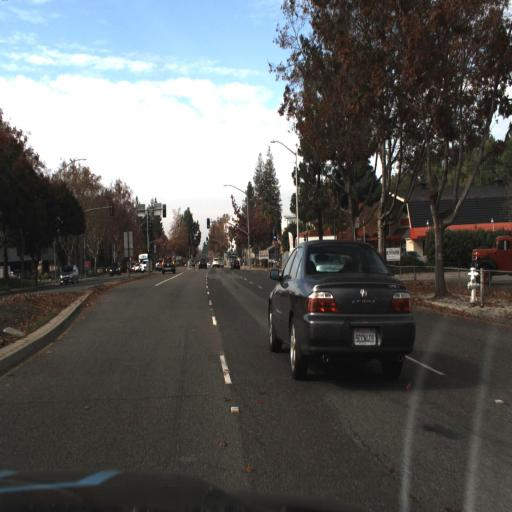car: (253, 221, 434, 416), (471, 233, 512, 279), (58, 260, 81, 286), (157, 253, 178, 277), (160, 254, 178, 279), (105, 259, 123, 282), (193, 253, 210, 274), (228, 254, 244, 275), (107, 259, 123, 278), (210, 253, 223, 273)
